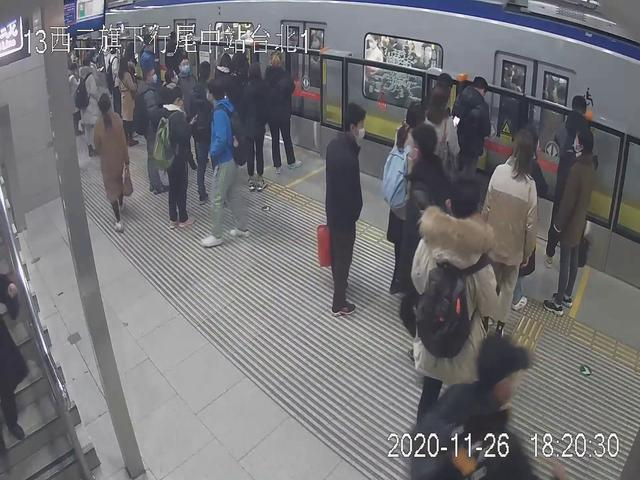person: (418, 172, 494, 444), (394, 124, 453, 363), (484, 124, 540, 343), (385, 102, 437, 304), (200, 82, 254, 249), (320, 101, 360, 314), (543, 96, 592, 267), (548, 128, 592, 314), (156, 85, 203, 228), (96, 92, 137, 234), (263, 50, 302, 167), (456, 73, 489, 205)
